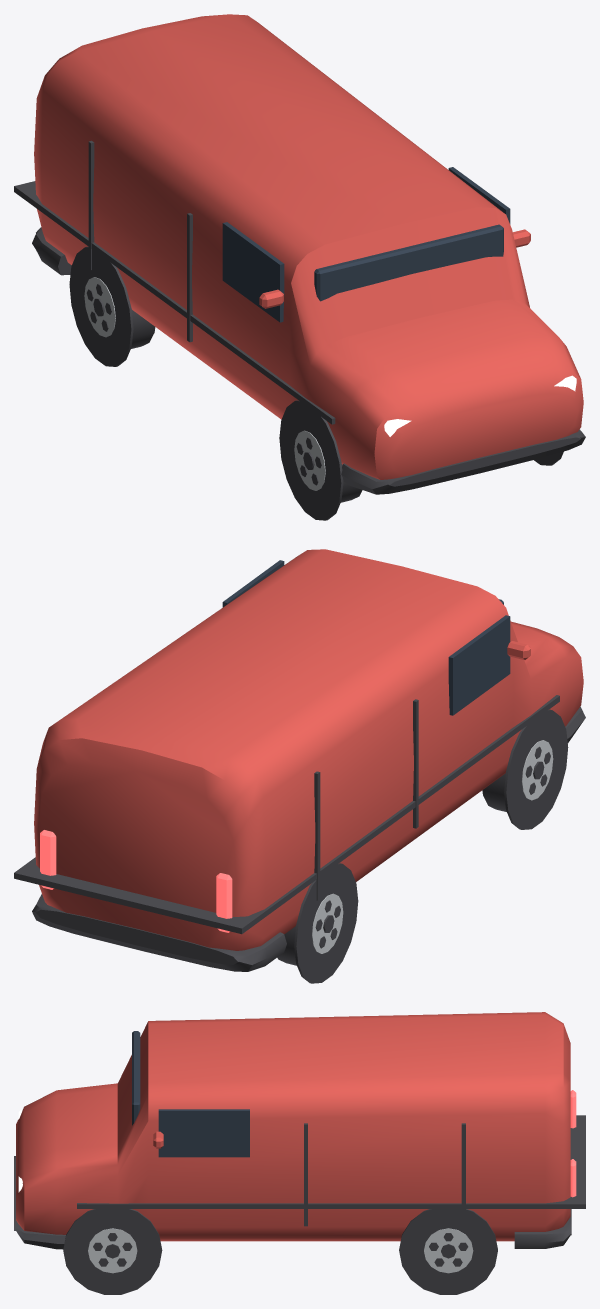
Rendered from car_van.glb.
The picture shows the model from 3 angles, top to bottom: view 1: azimuth 30°, elevation 25°; view 2: azimuth 150°, elevation 25°; view 3: azimuth 270°, elevation 25°; orthographic projection. The views are drawn at different scales.
Visible parts, largest first — view 1: body, windscreen, arch.002, arch.003, bumperF, winCab.001, beltline, wheel_RR, wheel_FR, bumperR, doorline2.001, doorline.001; view 2: body, beltline, bumperR, arch.002, arch.003, winCab.001, wheel_FR, wheel_RR, doorline2.001, taillight.001, taillight, doorline.001; view 3: body, arch, arch.001, winCab, beltline, wheel_FL, wheel_RL, bumperR, bumperF, windscreen, doorline2, doorline.
Part boxes in pixels (x1,y1,x2,y2): body: [34, 14, 583, 479]; windscreen: [314, 224, 503, 301]; arch.002: [279, 400, 343, 520]; arch.003: [69, 246, 133, 366]; bumperF: [341, 429, 585, 494]; winCab.001: [222, 222, 284, 322]; beltline: [14, 181, 335, 424]; wheel_RR: [84, 277, 155, 348]; wheel_FR: [294, 430, 362, 502]; bumperR: [32, 227, 71, 275]; doorline2.001: [88, 140, 94, 269]; doorline.001: [187, 213, 192, 342]; body: [34, 549, 583, 950]; beltline: [14, 695, 559, 934]; bumperR: [32, 894, 286, 971]; arch.002: [504, 709, 568, 829]; arch.003: [294, 863, 358, 983]; winCab.001: [448, 615, 510, 715]; wheel_FR: [482, 740, 553, 811]; wheel_RR: [277, 893, 343, 965]; doorline2.001: [314, 771, 320, 900]; taillight.001: [216, 873, 232, 932]; taillight: [40, 830, 56, 889]; doorline.001: [413, 699, 418, 828]; body: [16, 1012, 570, 1241]; arch: [63, 1209, 162, 1294]; arch.001: [399, 1209, 497, 1294]; winCab: [158, 1109, 249, 1157]; beltline: [77, 1115, 585, 1208]; wheel_FL: [88, 1228, 137, 1273]; wheel_RL: [424, 1228, 473, 1273]; bumperR: [514, 1209, 571, 1248]; bumperF: [14, 1156, 65, 1249]; windscreen: [132, 1031, 140, 1125]; doorline2: [461, 1123, 465, 1226]; doorline: [304, 1123, 307, 1226].
Bounding box in the file's own units: 2.44 × 2.25 × 5.62.
